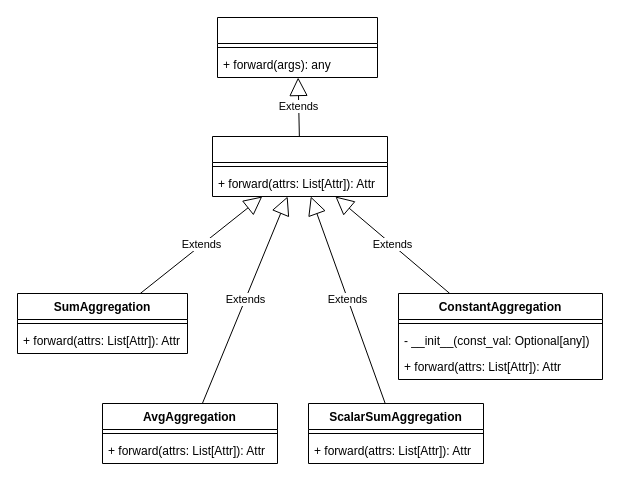
This 620x484 diagram has some shape labels left out. Each missing label, with the box of its shape:
Aggregation: (212, 136, 388, 196)
torch.nn.Module: (216, 16, 378, 78)
